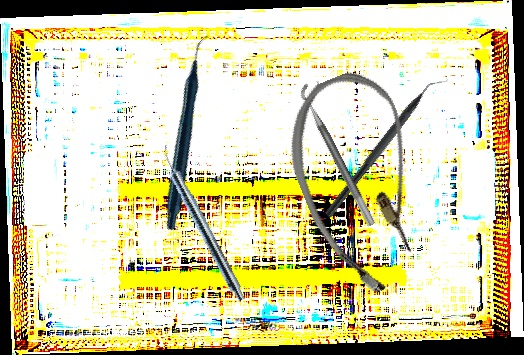Cannula: (267, 60, 457, 305)
Chopper: (324, 68, 450, 226)
Fixation Ring: (296, 77, 388, 228)
Handpiece: (90, 34, 288, 232), (154, 142, 251, 304)
